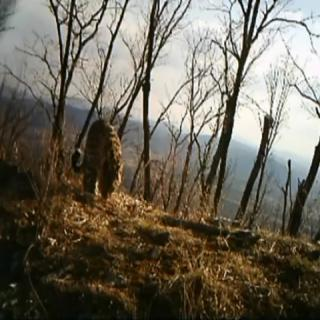Leopard: (71, 101, 131, 212)
